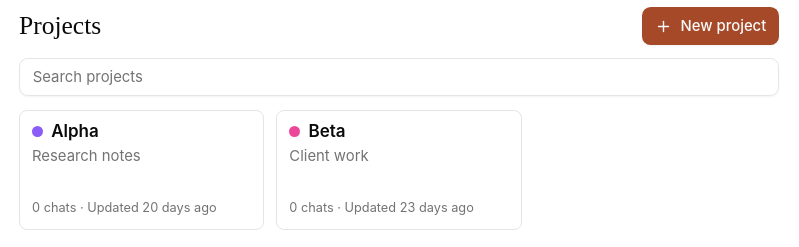
ProjectsGrid › shows an empty state with no matches
Type "zzz" into the field with test id "project-search" at (399, 77), box [19, 58, 779, 96]
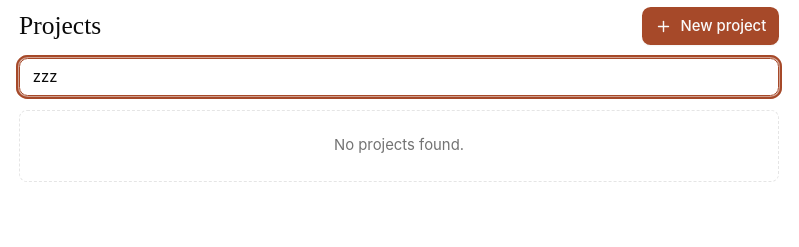
Expected: the text with test id "projects-empty" reads "No projects found.", [334, 136, 464, 154]
